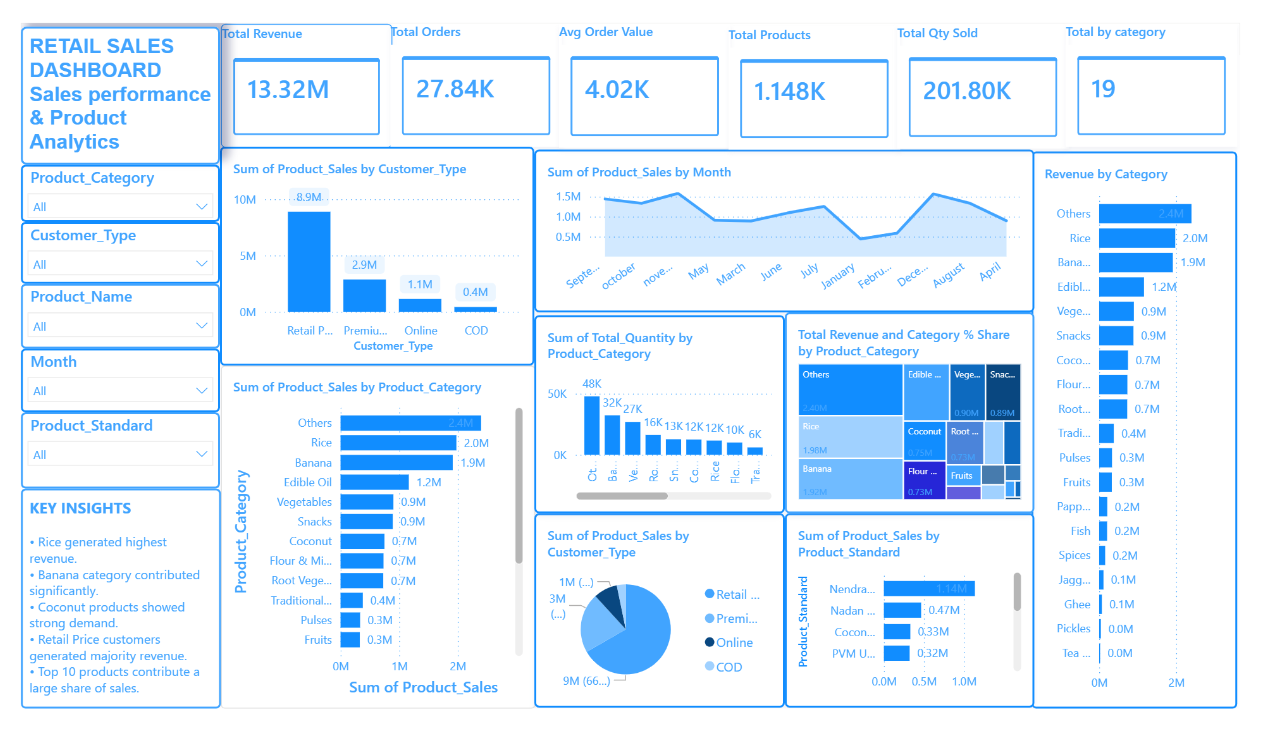

Layout of this report page (visuals, bound fields, positions):
{"tool":"powerbi","page":{"name":"Page 1","canvas":[1280,720],"ordinal":0},"visuals":[{"type":"cardVisual","title":"Total Revenue ","fields":{"Data":["Sum(Retail_Analysis_Final 1.Product_Sales)"]},"box":[210.3,1.2,180,130],"z":0},{"type":"clusteredBarChart","title":"Revenue by Category","fields":{"Category":["Retail_Analysis_Final 1.Product_Category"],"Y":["Sum(Retail_Analysis_Final 1.Product_Sales)"]},"box":[1061.4,134.5,215.2,585.7],"z":1000},{"type":"barChart","fields":{"Category":["Retail_Analysis_Final 1.Product_Standard"],"Y":["Sum(Retail_Analysis_Final 1.Product_Sales)"]},"box":[802.2,514.8,261.7,204.2],"z":2000},{"type":"cardVisual","title":"Total Orders","fields":{"Data":["Retail_Analysis_Final 1.Total Orders"]},"box":[387.7,0,180,130],"z":3000},{"type":"lineChart","fields":{"Category":["Retail_Analysis_Final 1.Month"],"Y":["Sum(Retail_Analysis_Final 1.Product_Sales)"]},"box":[539,133.1,525.4,171.1],"z":4000},{"type":"cardVisual","title":"Avg Order Value","fields":{"Data":["Retail_Analysis_Final 1.Average Order Value"]},"box":[565.2,0,180,130.8],"z":5000},{"type":"clusteredColumnChart","fields":{"Category":["Retail_Analysis_Final 1.Customer_Type"],"Y":["Sum(Retail_Analysis_Final 1.Product_Sales)"]},"box":[209.1,130.3,329.9,229.4],"z":6000},{"type":"treemap","fields":{"Group":["Retail_Analysis_Final 1.Product_Category"],"Values":["Retail_Analysis_Final 1.Total Revenue"]},"box":[802.4,304.1,262,210.4],"z":7000},{"type":"textbox","box":[0,3.7,209.1,145.5],"z":8000},{"type":"cardVisual","title":"Total Products","fields":{"Data":["Count(Retail_Analysis_Final 1.Product_Standard)"]},"box":[742.6,3.4,180,130],"z":9000},{"type":"slicer","fields":{"Values":["Retail_Analysis_Final 1.Customer_Type"]},"box":[0,209.1,209.1,64.8],"z":10000},{"type":"slicer","fields":{"Values":["Retail_Analysis_Final 1.Month"]},"box":[0,342,209,67],"z":11000},{"type":"slicer","fields":{"Values":["Retail_Analysis_Final 1.Product_Category"]},"box":[0,149.2,209.1,59.9],"z":12000},{"type":"barChart","fields":{"Category":["Retail_Analysis_Final 1.Product_Category"],"Y":["Sum(Retail_Analysis_Final 1.Product_Sales)"]},"box":[210.4,359.8,329.9,359.8],"z":13000},{"type":"pieChart","fields":{"Y":["Sum(Retail_Analysis_Final 1.Product_Sales)"],"Category":["Retail_Analysis_Final 1.Customer_Type"]},"box":[539.3,514.8,262.9,204.2],"z":14000},{"type":"columnChart","fields":{"Category":["Retail_Analysis_Final 1.Product_Category"],"Y":["Sum(Retail_Analysis_Final 1.Total_Quantity)"]},"box":[539,306.8,263.4,207.7],"z":15000},{"type":"cardVisual","title":"Total Qty Sold","fields":{"Data":["Sum(Retail_Analysis_Final 1.Total_Quantity)"]},"box":[920,1.2,180,130.8],"z":16000},{"type":"cardVisual","title":"Total by category","fields":{"Data":["Count(Retail_Analysis_Final 1.Product_Category)"]},"box":[1097.4,0,180,130],"z":17000},{"type":"textbox","box":[0,489,210,231],"z":18000},{"type":"slicer","fields":{"Values":["Retail_Analysis_Final 1.Product_Name"]},"box":[0,273.9,209.1,68.5],"z":19000},{"type":"slicer","fields":{"Values":["Retail_Analysis_Final 1.Product_Standard"]},"box":[0,409,209,80],"z":20000}]}

Visuals, with their boxes in screenshot pixels (x1, y1, x2, y2), scaled from the page's 1280x720 canvas onto the 1262x730 screenshot:
"Total Revenue " cardVisual: (left=207, top=1, right=385, bottom=133)
"Revenue by Category" clusteredBarChart: (left=1046, top=136, right=1259, bottom=729)
barChart - Retail_Analysis_Final 1.Product_Standard x Sum(Retail_Analysis_Final 1.Product_Sales): (left=791, top=522, right=1049, bottom=729)
"Total Orders" cardVisual: (left=382, top=0, right=560, bottom=132)
lineChart - Retail_Analysis_Final 1.Month x Sum(Retail_Analysis_Final 1.Product_Sales): (left=531, top=135, right=1049, bottom=308)
"Avg Order Value" cardVisual: (left=557, top=0, right=735, bottom=133)
clusteredColumnChart - Retail_Analysis_Final 1.Customer_Type x Sum(Retail_Analysis_Final 1.Product_Sales): (left=206, top=132, right=531, bottom=365)
treemap - Retail_Analysis_Final 1.Product_Category x Retail_Analysis_Final 1.Total Revenue: (left=791, top=308, right=1049, bottom=522)
textbox: (left=0, top=4, right=206, bottom=151)
"Total Products" cardVisual: (left=732, top=3, right=910, bottom=135)
slicer - Retail_Analysis_Final 1.Customer_Type: (left=0, top=212, right=206, bottom=278)
slicer - Retail_Analysis_Final 1.Month: (left=0, top=347, right=206, bottom=415)
slicer - Retail_Analysis_Final 1.Product_Category: (left=0, top=151, right=206, bottom=212)
barChart - Retail_Analysis_Final 1.Product_Category x Sum(Retail_Analysis_Final 1.Product_Sales): (left=207, top=365, right=533, bottom=729)
pieChart - Sum(Retail_Analysis_Final 1.Product_Sales) x Retail_Analysis_Final 1.Customer_Type: (left=532, top=522, right=791, bottom=729)
columnChart - Retail_Analysis_Final 1.Product_Category x Sum(Retail_Analysis_Final 1.Total_Quantity): (left=531, top=311, right=791, bottom=522)
"Total Qty Sold" cardVisual: (left=907, top=1, right=1085, bottom=134)
"Total by category" cardVisual: (left=1082, top=0, right=1259, bottom=132)
textbox: (left=0, top=496, right=207, bottom=729)
slicer - Retail_Analysis_Final 1.Product_Name: (left=0, top=278, right=206, bottom=347)
slicer - Retail_Analysis_Final 1.Product_Standard: (left=0, top=415, right=206, bottom=496)
